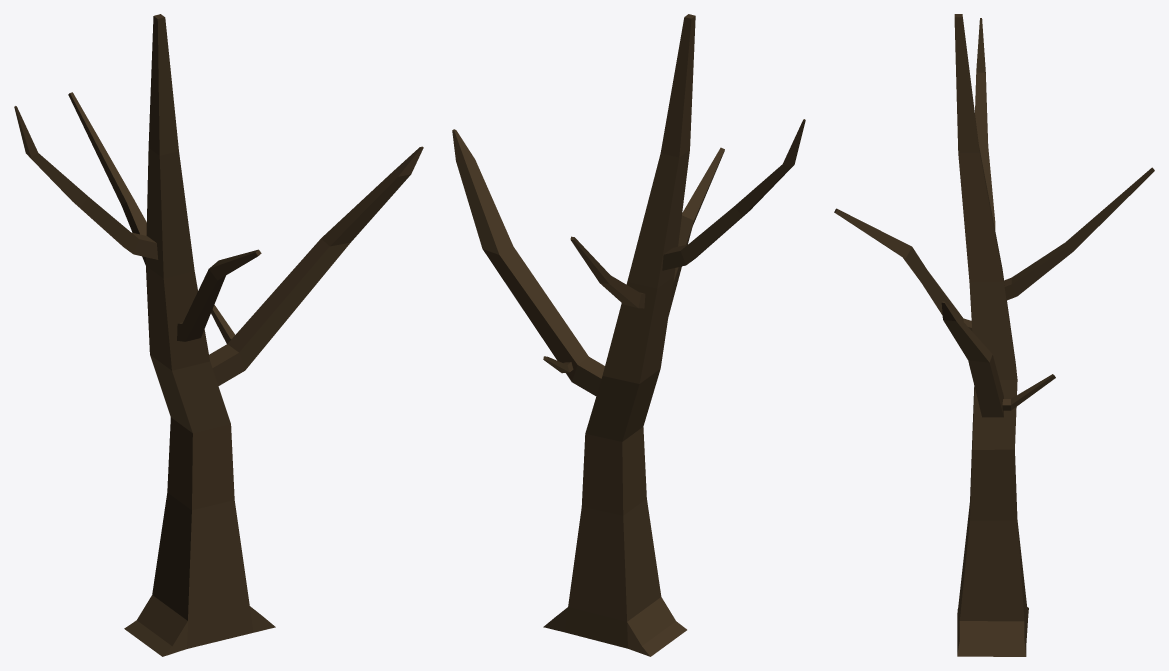
Rendered from TreeNoLeafs.fbx.
3 views of the same model, side by side, from view 1: azimuth 30°, elevation 25°; view 2: azimuth 150°, elevation 25°; view 3: azimuth 270°, elevation 25° (orthographic). The views are drawn at different scales.
Visible parts, largest first — view 1: Cube, Cube.001, Cube.003, Cube.004, Cube.005; view 2: Cube, Cube.001, Cube.003, Cube.004, Cube.005; view 3: Cube, Cube.001, Cube.005, Cube.004, Cube.003, Cube.002.
Boxes of the visible parts, box(x1,y1,x2,y2) form: Cube: box(124, 14, 275, 656); Cube.001: box(209, 146, 423, 385); Cube.003: box(14, 106, 158, 259); Cube.004: box(177, 249, 261, 341); Cube.005: box(68, 92, 146, 265); Cube: box(543, 14, 695, 656); Cube.001: box(452, 129, 604, 395); Cube.003: box(662, 119, 805, 270); Cube.004: box(668, 147, 724, 316); Cube.005: box(570, 236, 645, 308); Cube: box(954, 14, 1028, 656); Cube.001: box(941, 301, 1003, 417); Cube.005: box(1004, 167, 1154, 300); Cube.004: box(834, 208, 972, 330); Cube.003: box(975, 18, 995, 229); Cube.002: box(1002, 374, 1055, 410).
Bounding box in the file's own units: 636 × 1004 × 494.
